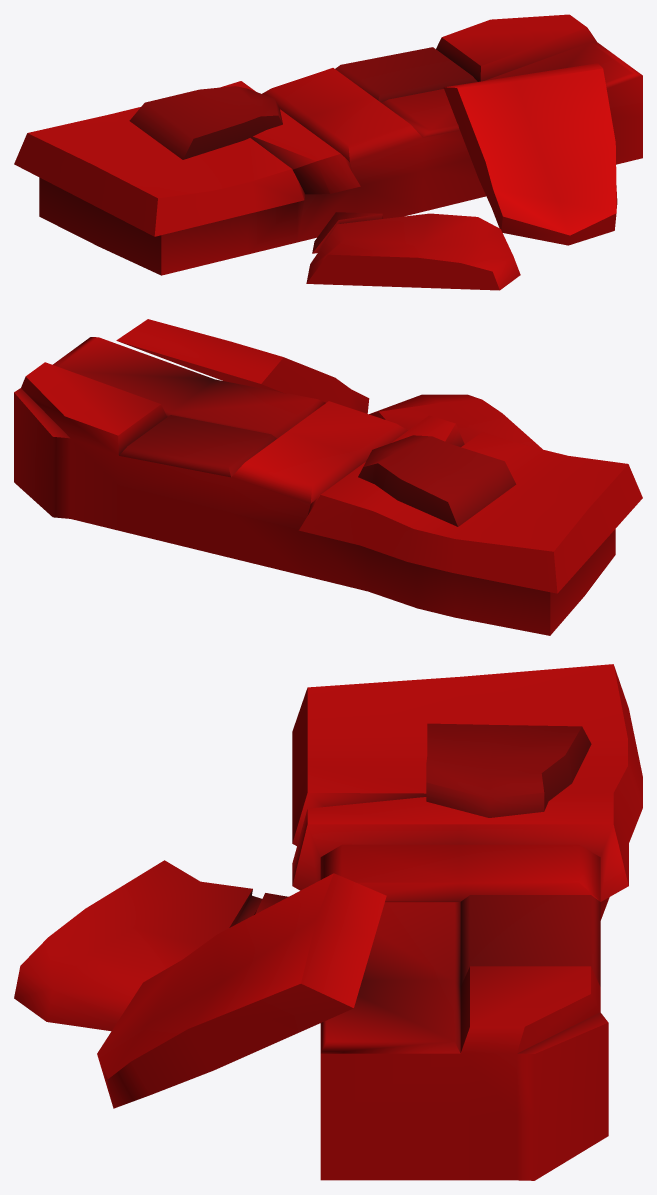
Rendered from buildings-ruins-templeruins_v3.fbx.
3 renders of one model, top to bottom at view 1: azimuth 30°, elevation 25°; view 2: azimuth 150°, elevation 25°; view 3: azimuth 270°, elevation 25°, orthographic. The views are drawn at different scales.
Parts seen in each view (by area): view 1: TempleRuins_v3; view 2: TempleRuins_v3; view 3: TempleRuins_v3.
Boxes of the visible parts, x1,y1,x2,y2 form: TempleRuins_v3: [14, 14, 642, 290]; TempleRuins_v3: [14, 319, 642, 635]; TempleRuins_v3: [14, 664, 642, 1180].
Bounding box in the file's own units: 4.79 × 0.9627 × 3.21.
